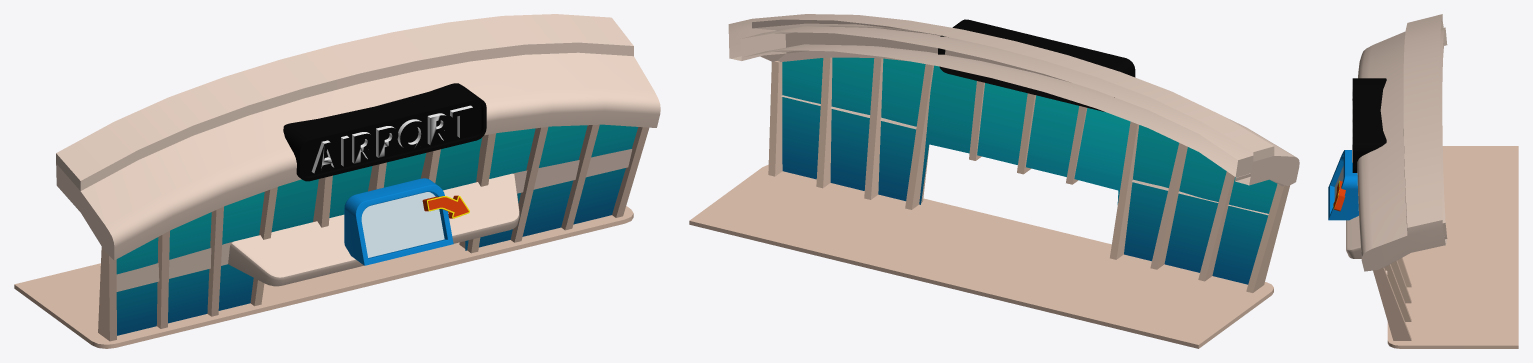
File: Building2.fbx
3 views of the same model, side by side, from view 1: azimuth 30°, elevation 25°; view 2: azimuth 150°, elevation 25°; view 3: azimuth 270°, elevation 25° (orthographic). The views are drawn at different scales.
Parts seen in each view (by area): view 1: Building2, pCube1, Airport1, Counter; view 2: Building2, pCube1, Airport1; view 3: Building2, pCube1, Airport1, Counter.
Part boxes in pixels (bbox=[...]): Building2: bbox=[56, 14, 660, 341]; pCube1: bbox=[14, 206, 633, 348]; Airport1: bbox=[283, 83, 486, 181]; Counter: bbox=[344, 178, 469, 265]; Building2: bbox=[728, 14, 1299, 292]; pCube1: bbox=[689, 164, 1273, 348]; Airport1: bbox=[938, 19, 1135, 111]; Building2: bbox=[1346, 14, 1447, 340]; pCube1: bbox=[1387, 146, 1518, 348]; Airport1: bbox=[1352, 78, 1386, 172]; Counter: bbox=[1328, 150, 1358, 220].
Bounding box in the file's own units: 928 × 345 × 363.
Materials: 2 (1 with a texture image).
